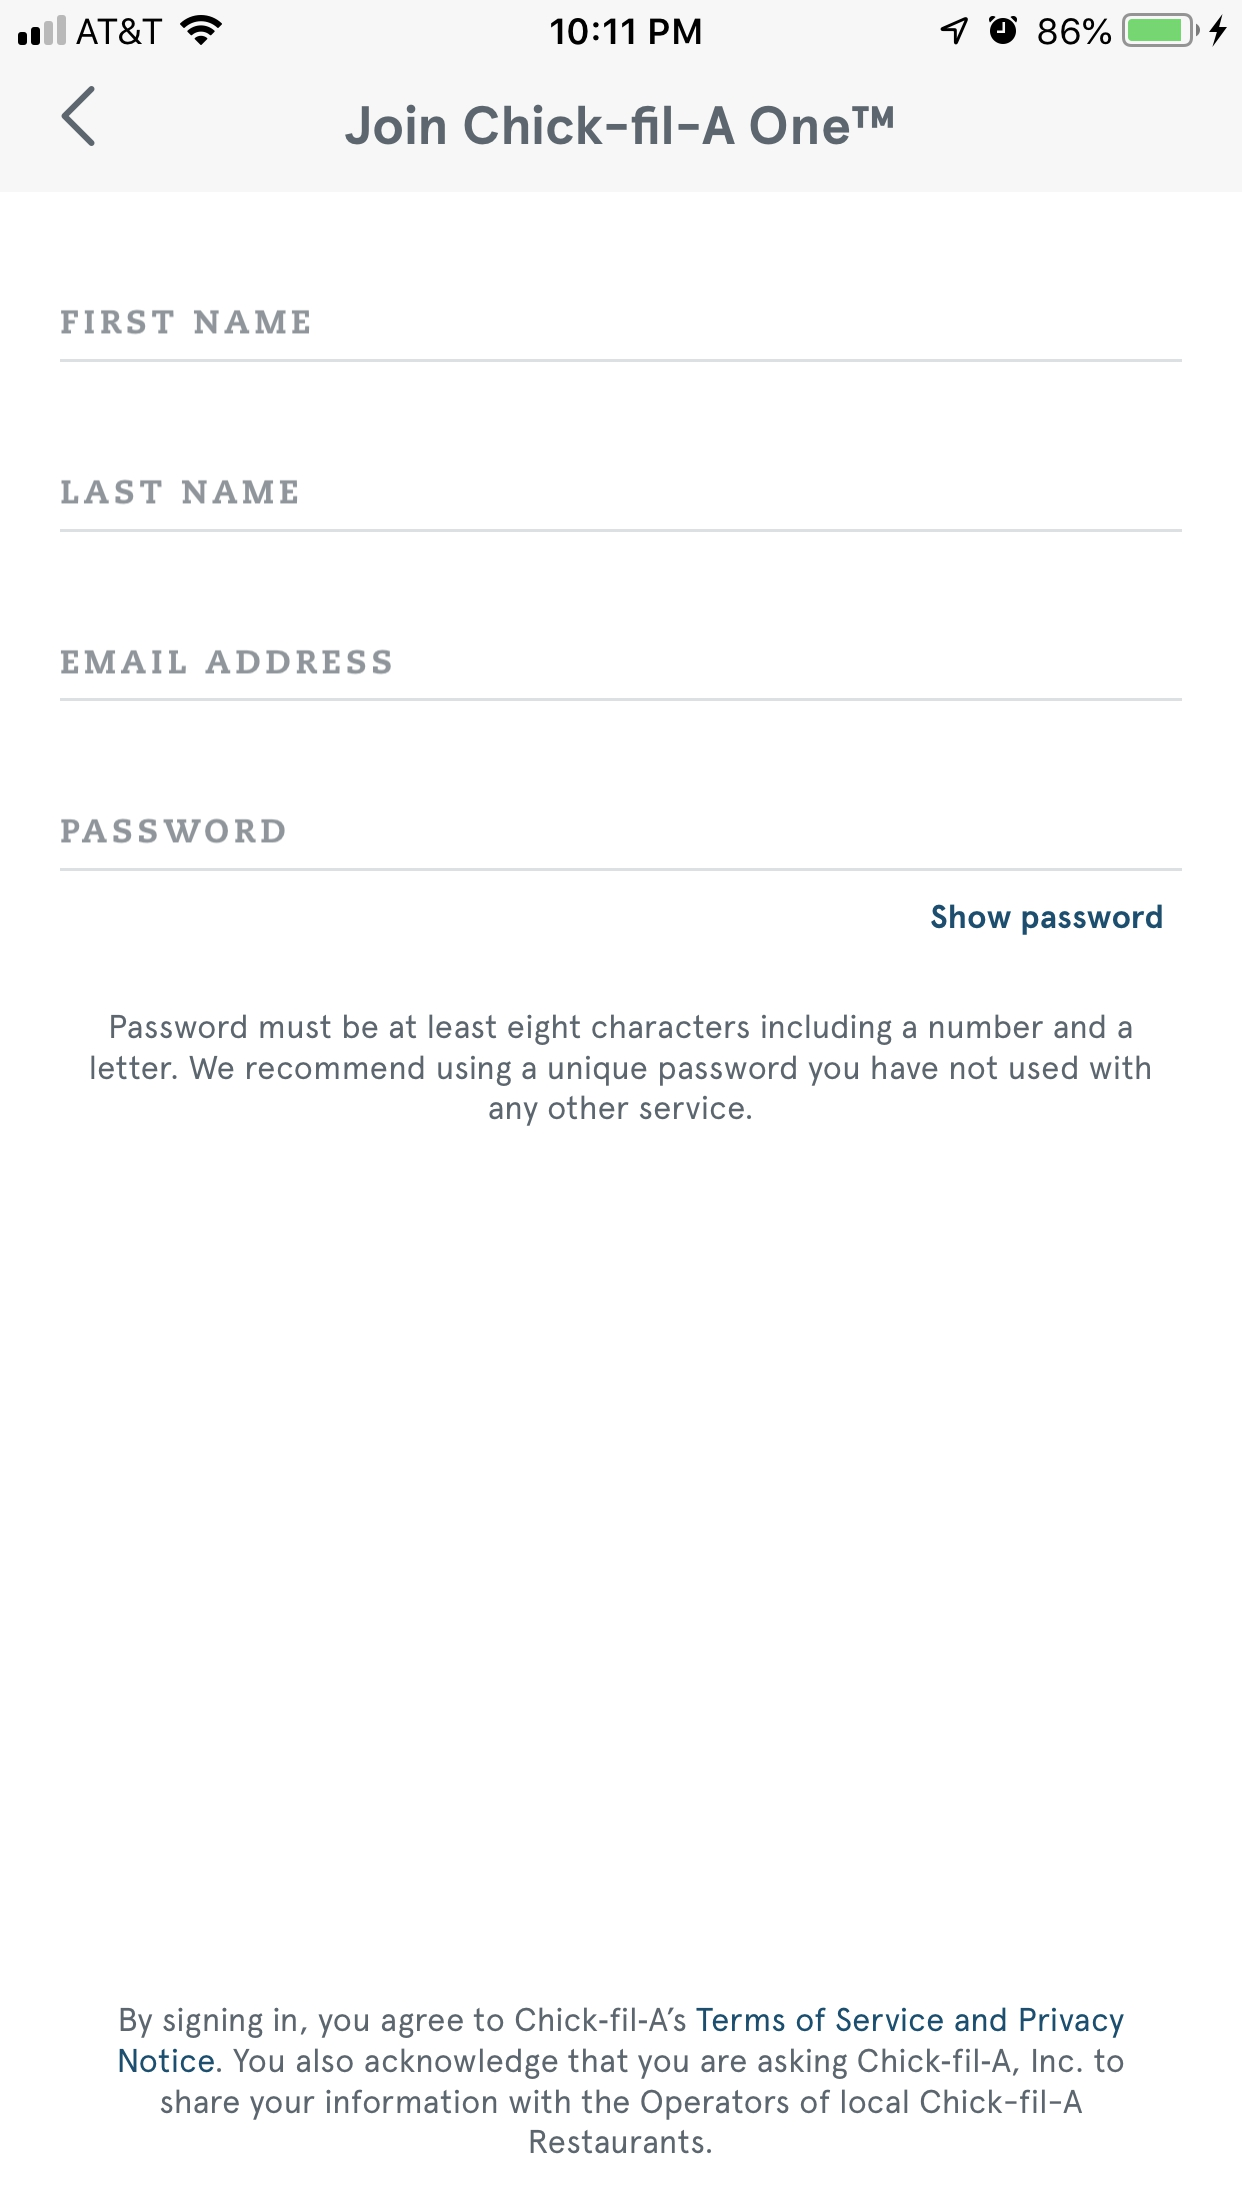EditText: (61, 817, 1183, 873), (61, 649, 1183, 702), (61, 481, 1183, 534), (61, 309, 1183, 362)
Icon: (61, 86, 96, 149)
Text: (118, 2006, 1125, 2155), (91, 1013, 1151, 1127), (346, 105, 895, 147), (61, 649, 391, 675), (930, 904, 1163, 937), (61, 309, 309, 335), (61, 817, 287, 845), (61, 481, 299, 505)
UpperTaskBar: (2, 2, 1242, 49)
